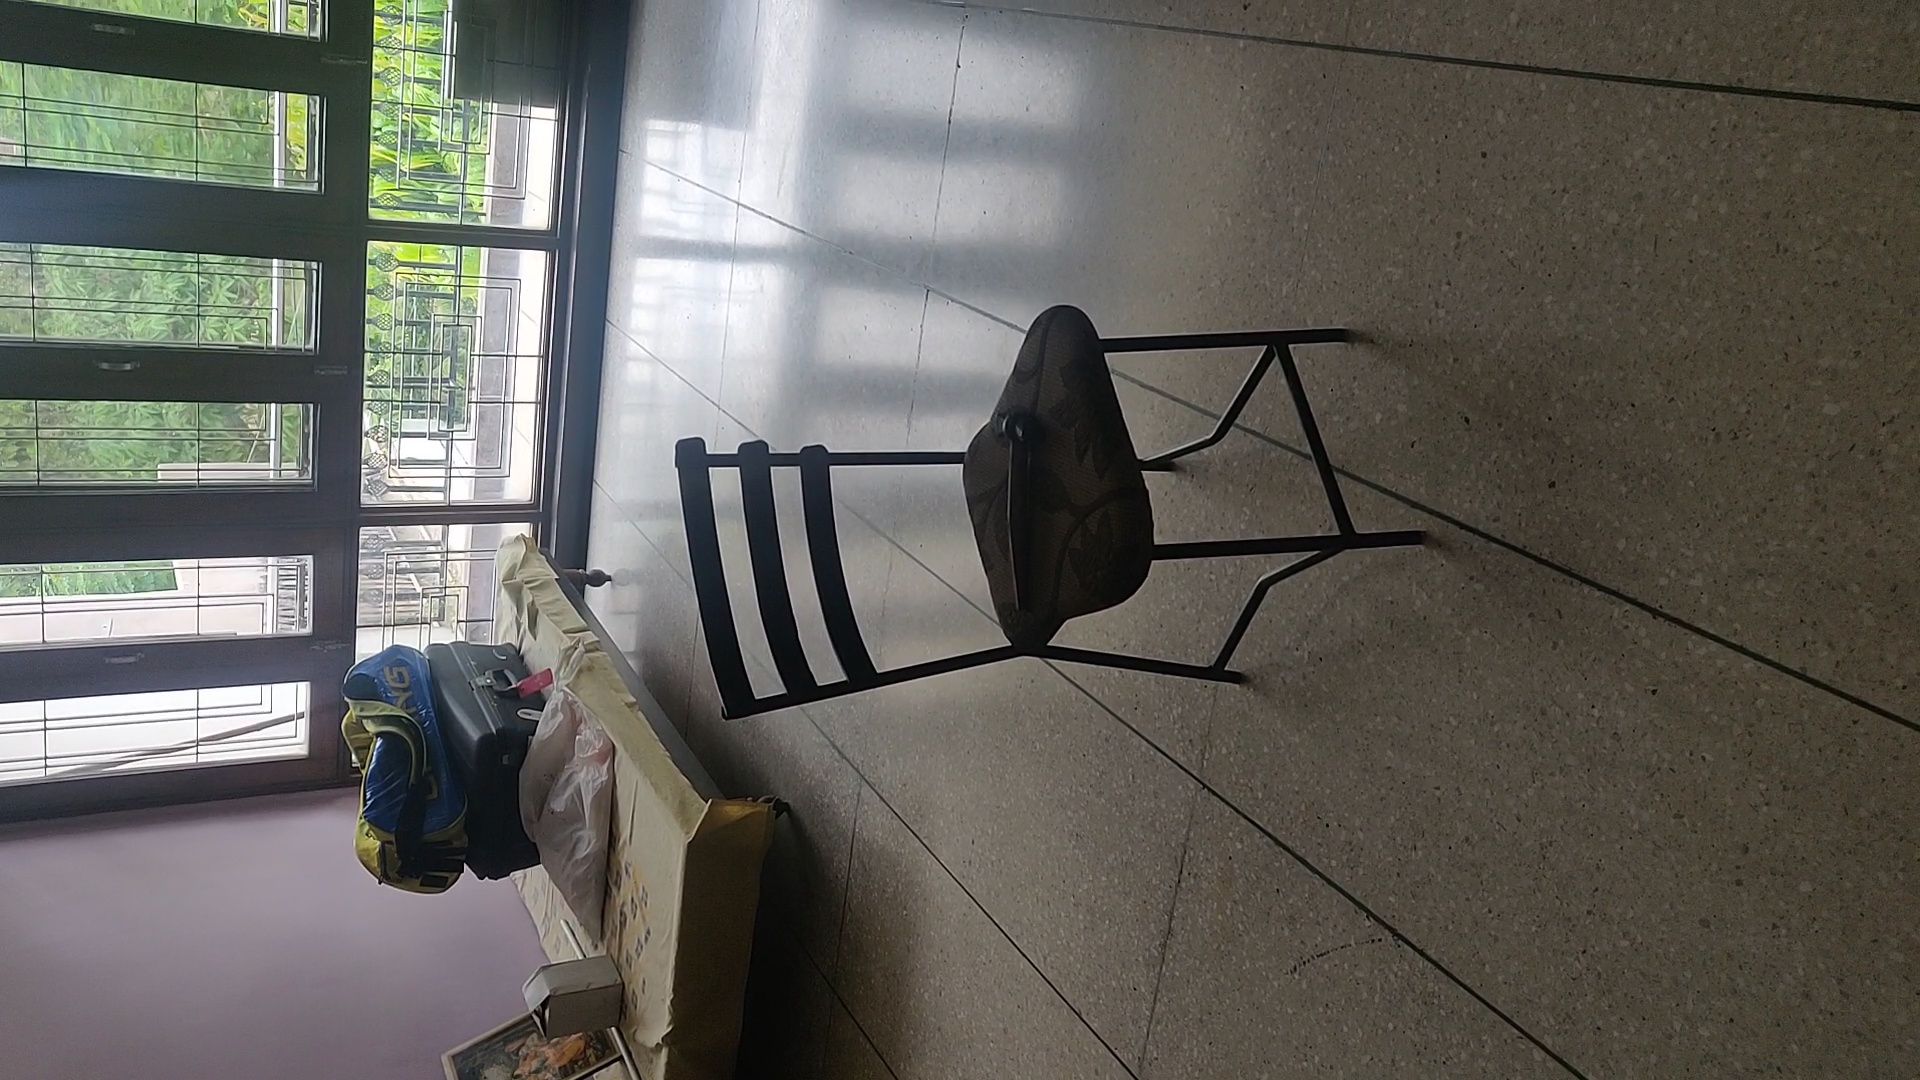hammer: (997, 410, 1054, 611)
